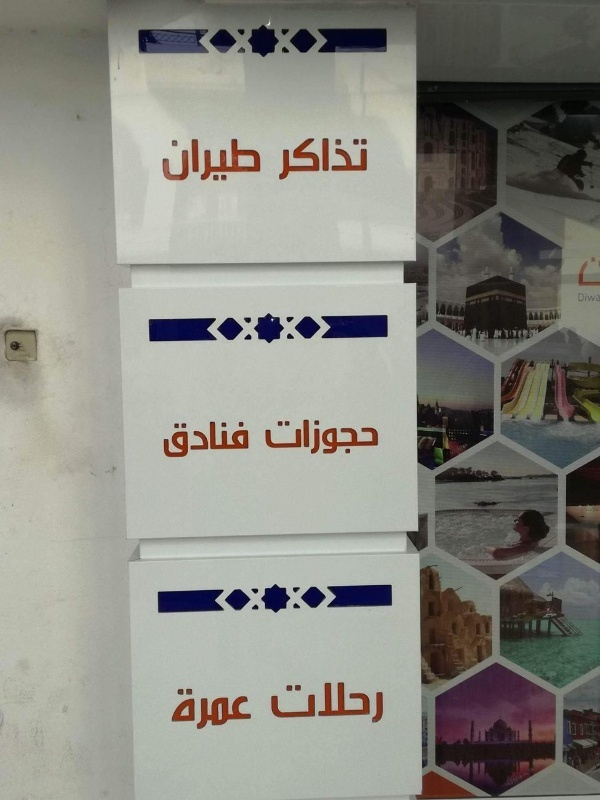text: (353, 137, 369, 182), (289, 137, 304, 182), (305, 137, 320, 182), (321, 137, 336, 182), (337, 137, 352, 182), (177, 138, 192, 182), (193, 138, 208, 182), (209, 138, 224, 182), (225, 138, 240, 182), (241, 138, 256, 182), (273, 682, 288, 725), (289, 682, 304, 725), (305, 682, 320, 725), (321, 682, 336, 725), (337, 682, 352, 725), (353, 682, 368, 725), (369, 682, 384, 725), (162, 138, 176, 182), (177, 689, 192, 730), (193, 689, 208, 730), (209, 689, 224, 730), (225, 689, 240, 730), (177, 421, 192, 461), (193, 421, 208, 461), (209, 421, 224, 461), (225, 421, 240, 461), (273, 419, 288, 455), (289, 419, 304, 455), (305, 419, 320, 455), (321, 419, 336, 455), (337, 419, 352, 455), (353, 419, 368, 455), (163, 421, 176, 461), (241, 689, 252, 730), (278, 137, 288, 182), (369, 419, 380, 455), (580, 255, 592, 287), (262, 419, 272, 455), (241, 421, 250, 461), (513, 766, 528, 789), (170, 689, 176, 730), (502, 766, 512, 789), (593, 255, 599, 287), (257, 138, 261, 182), (529, 766, 536, 789), (578, 292, 592, 303), (593, 292, 600, 303), (271, 682, 272, 725)
